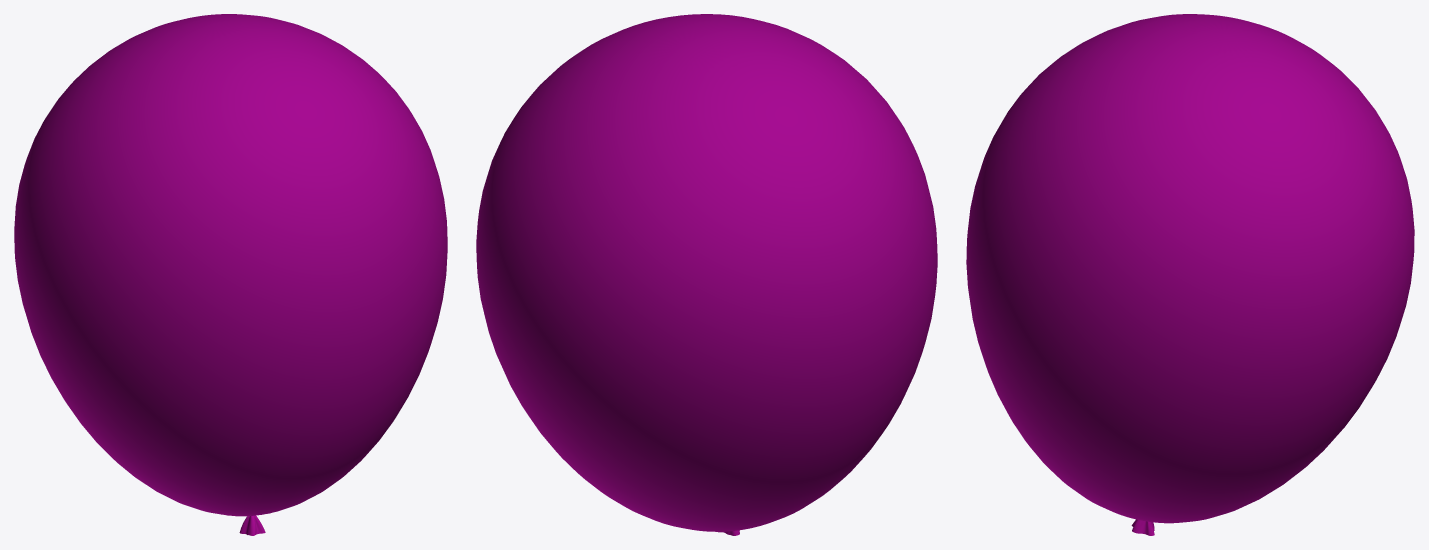
File: balloon.fbx
The picture shows the model from 3 angles, left to right: view 1: azimuth 30°, elevation 25°; view 2: azimuth 150°, elevation 25°; view 3: azimuth 270°, elevation 25°; orthographic projection. The views are drawn at different scales.
Visible parts, largest first — view 1: Sphere.001; view 2: Sphere.001; view 3: Sphere.001.
Part boxes in pixels (x1=…): Sphere.001: x1=14, y1=14, x2=447, y2=535; Sphere.001: x1=476, y1=14, x2=937, y2=535; Sphere.001: x1=966, y1=14, x2=1414, y2=535.
Size of the model in its own units: 176 by 216 by 176.
